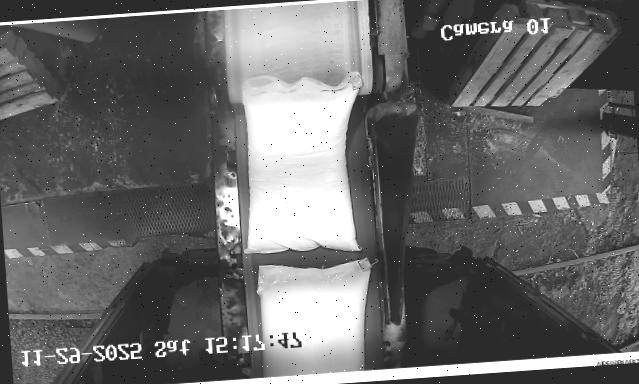bag: (232, 71, 374, 258), (255, 258, 377, 378)
